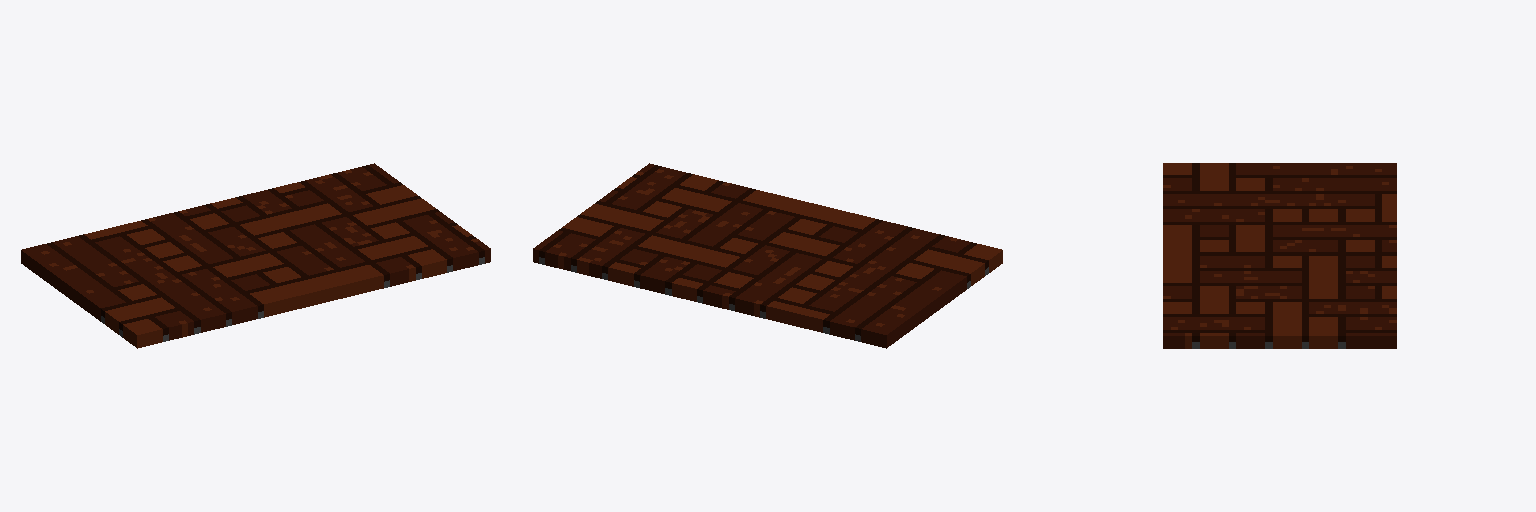
The picture shows the model from 3 angles: view 1: azimuth 30°, elevation 25°; view 2: azimuth 150°, elevation 25°; view 3: azimuth 270°, elevation 25°; orthographic projection.
Parts seen in each view (by area): view 1: Floor2; view 2: Floor2; view 3: Floor2.
Part boxes in pixels (x1,y1,x2,y2): Floor2: (21, 163, 490, 348); Floor2: (533, 163, 1002, 348); Floor2: (1163, 163, 1396, 348).
Bounding box in the file's own units: 5.6 × 0.2 × 3.2.
Materials: 1 (1 with a texture image).